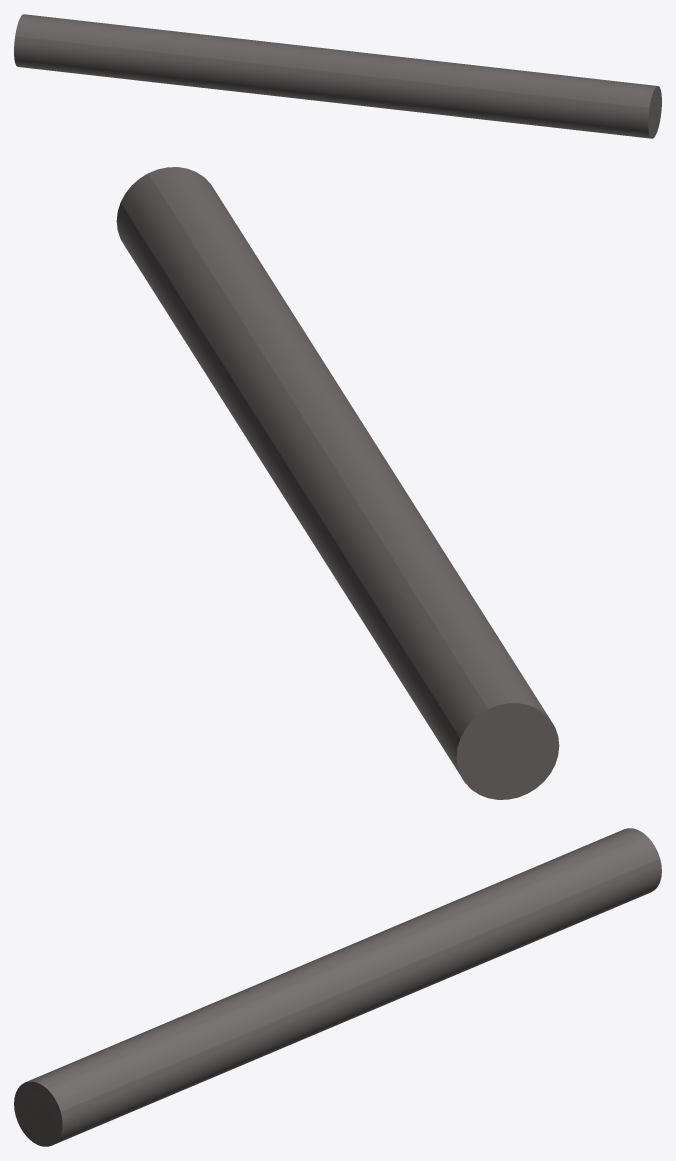
Rendered from rear_support__side_link_0.glb.
The picture shows the model from 3 angles, top to bottom: view 1: azimuth 30°, elevation 25°; view 2: azimuth 150°, elevation 25°; view 3: azimuth 270°, elevation 25°; orthographic projection. The views are drawn at different scales.
Parts seen in each view (by area): view 1: world; view 2: world; view 3: world.
Part boxes in pixels (x1,y1,x2,y2): world: (14,14,661,138); world: (116,167,559,799); world: (14,828,661,1146).
Bounding box in the file's own units: 0.2454 × 0.026 × 0.2454.
Materials: 1 (1 with a texture image).
